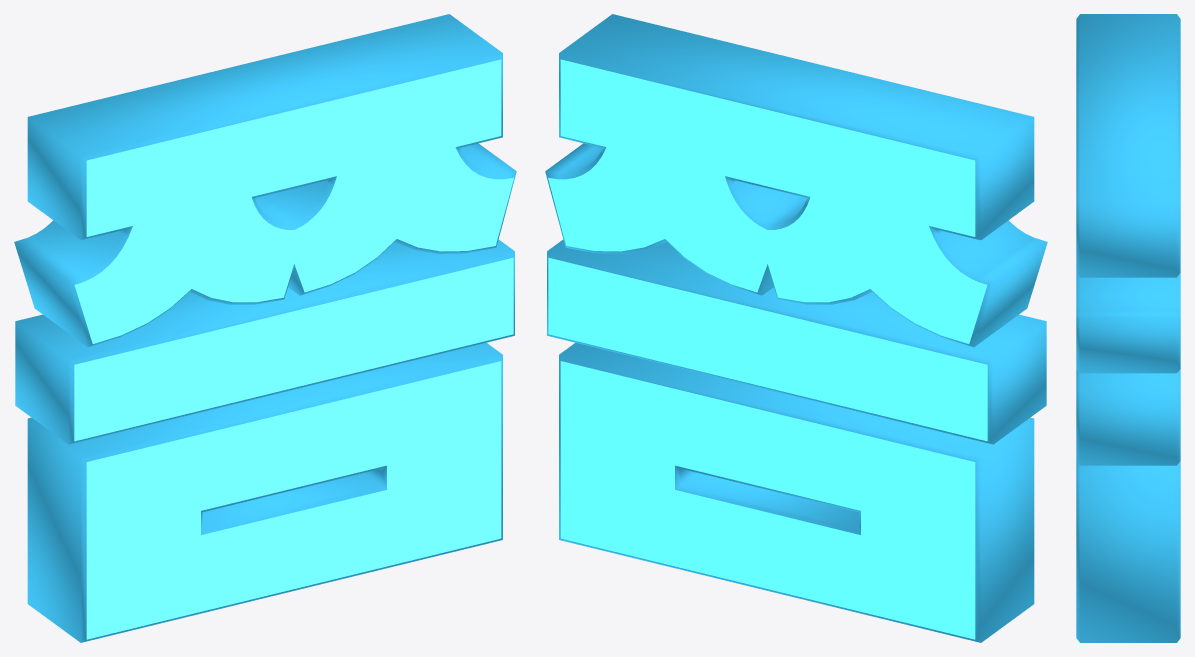
File: u_cbe4_b.glb
3 renders of one model, left to right at view 1: azimuth 30°, elevation 25°; view 2: azimuth 150°, elevation 25°; view 3: azimuth 270°, elevation 25°, orthographic. The views are drawn at different scales.
Parts seen in each view (by area): view 1: glyph; view 2: glyph; view 3: glyph.
Part boxes in pixels (x1,y1,x2,y2): glyph: (14,14,516,642); glyph: (545,14,1047,642); glyph: (1076,14,1180,642).
Bounding box in the file's own units: 0.073 × 0.0756 × 0.0162.
